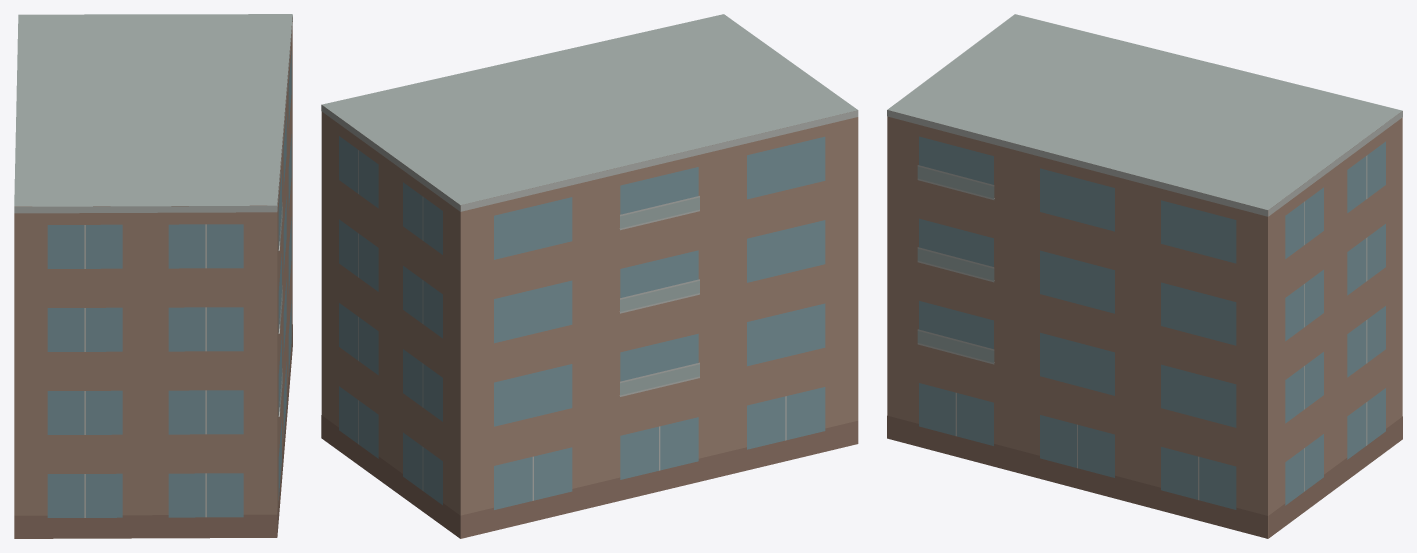
File: survey-upis-32680400.glb
The picture shows the model from 3 angles, left to right: view 1: azimuth 30°, elevation 25°; view 2: azimuth 150°, elevation 25°; view 3: azimuth 270°, elevation 25°; orthographic projection.
Visible parts, largest first — view 1: survey-upis-32680400.tmp; view 2: survey-upis-32680400.tmp; view 3: survey-upis-32680400.tmp.
Boxes of the visible parts, <box> form: survey-upis-32680400.tmp: <box>14,14,292,538</box>; survey-upis-32680400.tmp: <box>321,14,858,538</box>; survey-upis-32680400.tmp: <box>887,14,1402,538</box>.
Size of the model in its own units: 15.63 by 12.2 by 17.36.
